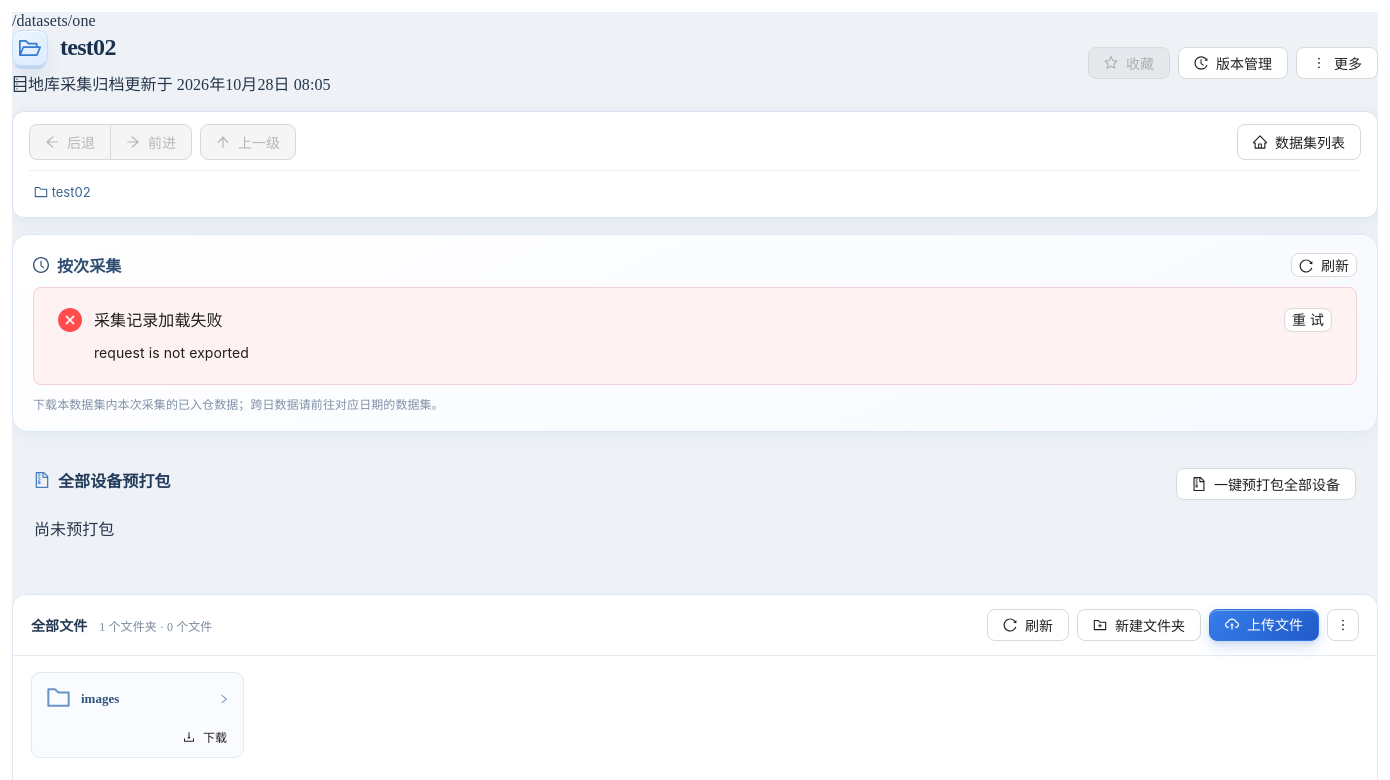
Test: Dataset file explorer › keeps server preparation visible while browsing directories without restarting it
The image size is (1390, 780).
Click the button "一键预打包全部设备": x=1266, y=484 [1176,468,1356,500]
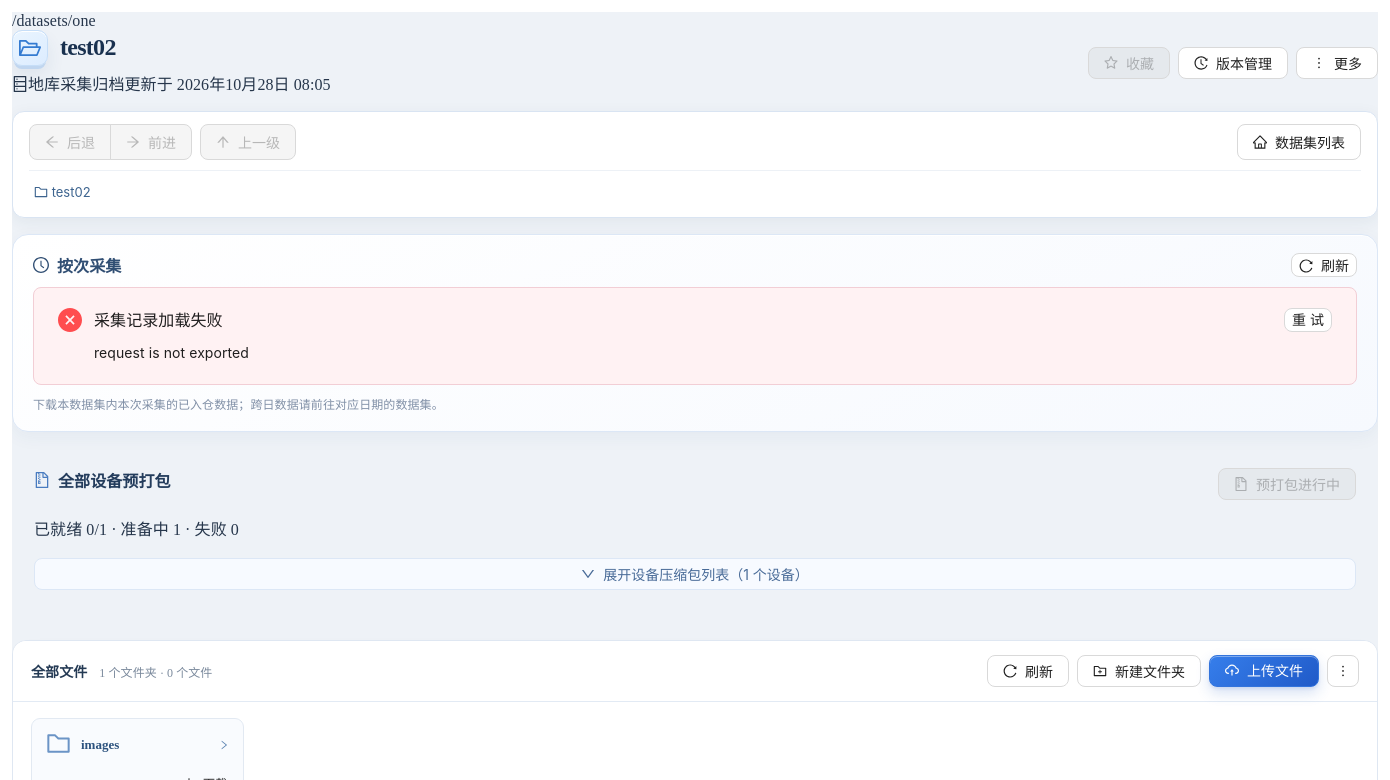
expect the message named "设备预打包进度" shows "准备中 1": met, box [34,521,239,538]
Click the button with aria-label "打开文件夹 images": x=138, y=745 [32,719,243,771]
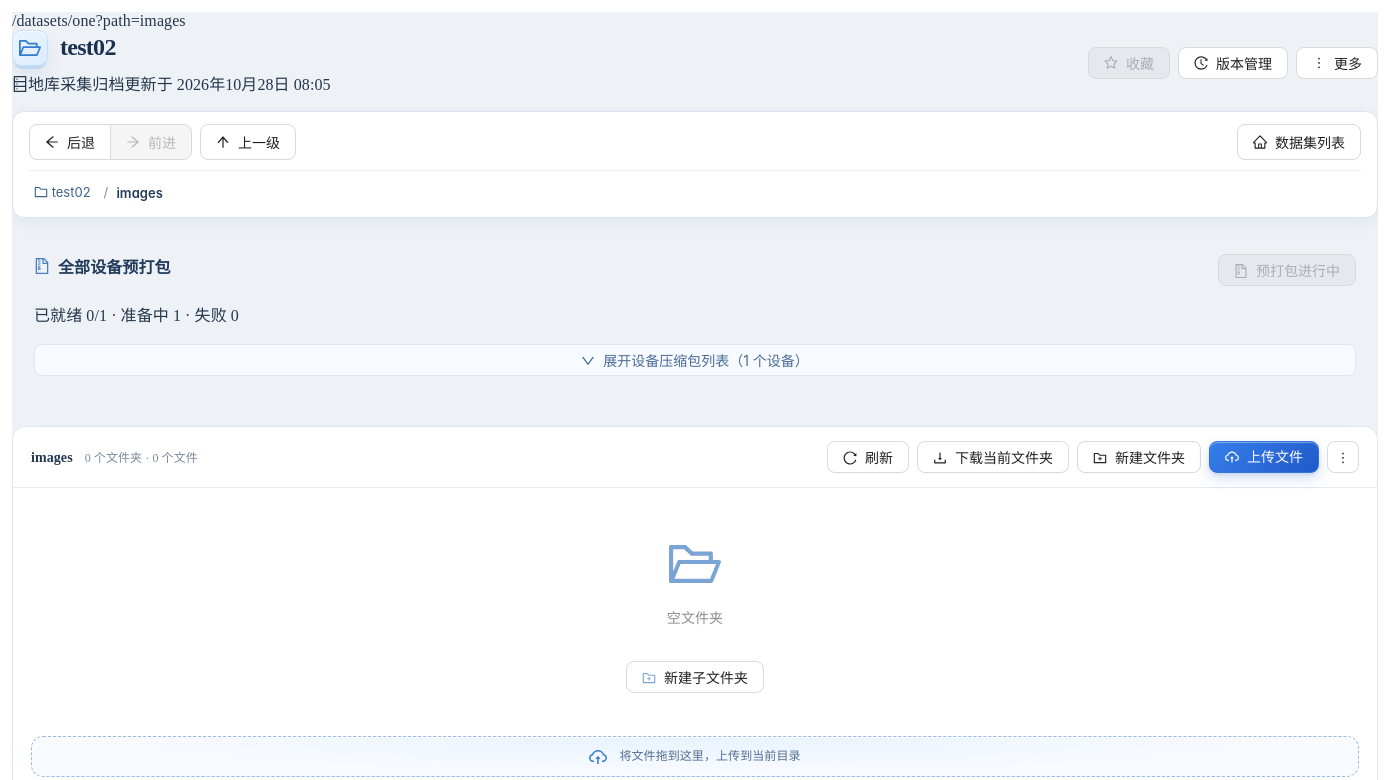
expect the message named "设备预打包进度" shows "准备中 1": met, box [34,307,239,324]
expect the button "预打包进行中" is disabled: met, box [1218,254,1356,286]
expect the text with test id "route-location" reads "/datasets/one?path=images": met, box [12,12,186,29]
